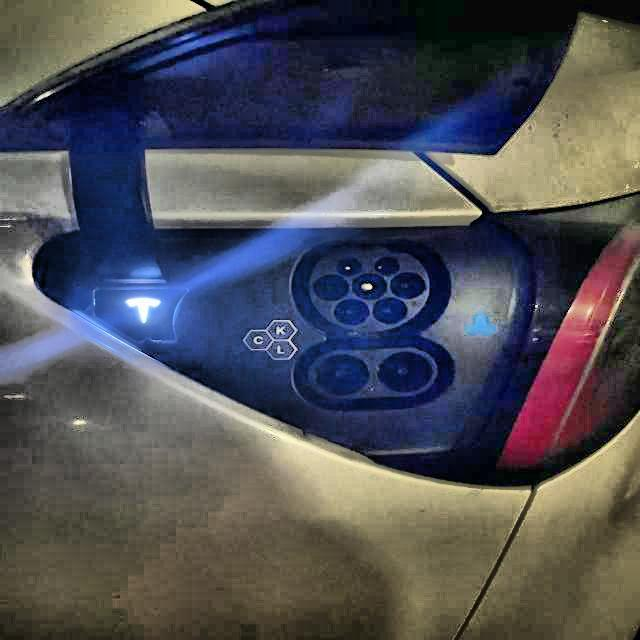inlet: (308, 253, 430, 332)
inlet-above-left: (335, 257, 362, 276)
inlet-above-right: (372, 256, 399, 275)
inlet-below-left: (332, 298, 369, 325)
inlet-below-right: (372, 297, 408, 324)
inlet-center: (350, 273, 387, 300)
inlet-center-left: (312, 274, 348, 300)
inlet-center-right: (389, 271, 426, 299)
